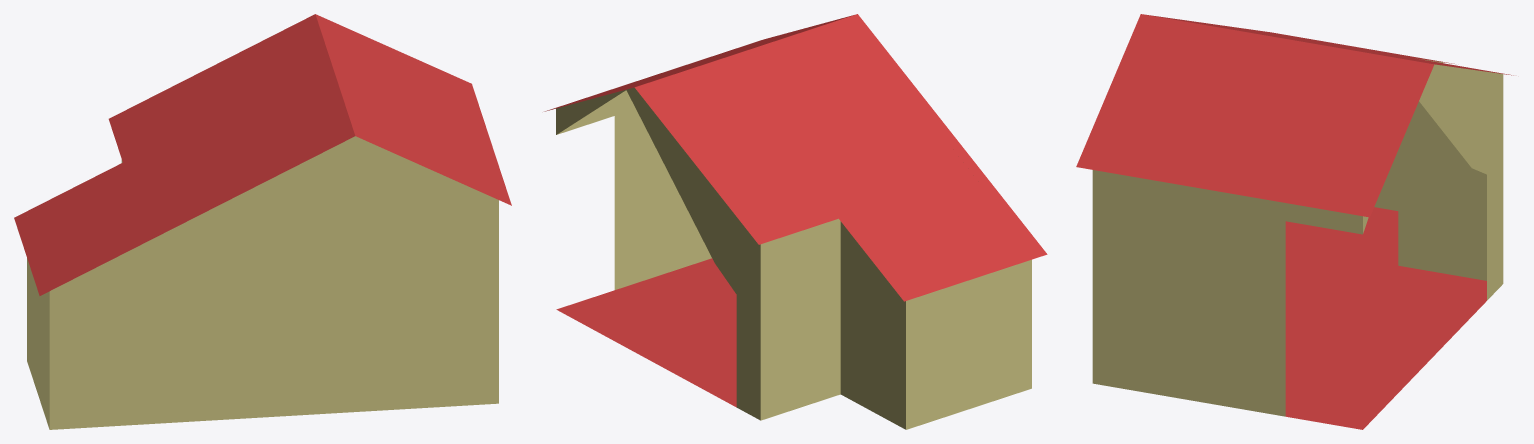
3 views of the same model, side by side, from view 1: azimuth 30°, elevation 25°; view 2: azimuth 150°, elevation 25°; view 3: azimuth 270°, elevation 25° (orthographic). The views are drawn at different scales.
Bounding box in the file's own units: 23.81 × 17.63 × 13.38.
